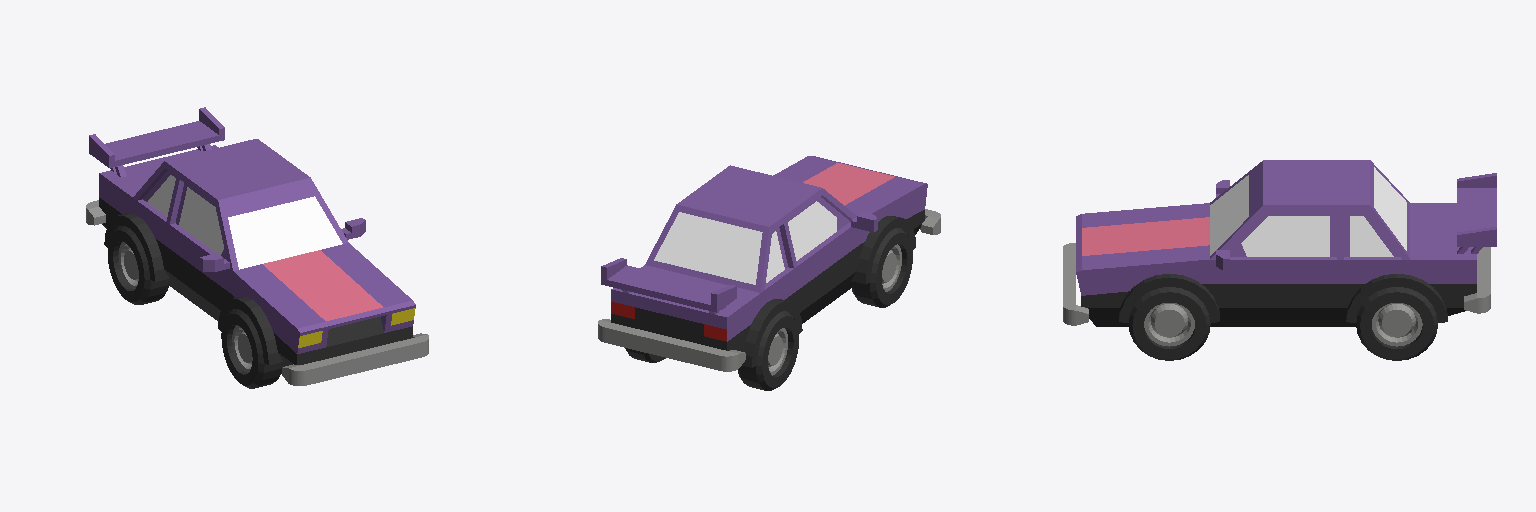
The model's file is car_sports_purple.obj.
3 views of the same model, side by side, from view 1: azimuth 30°, elevation 25°; view 2: azimuth 150°, elevation 25°; view 3: azimuth 270°, elevation 25° (orthographic).
Visible parts, largest first — view 1: mergedBlocks; view 2: mergedBlocks; view 3: mergedBlocks.
Part boxes in pixels (left/top/right/bottom): mergedBlocks: left=86, top=107, right=428, bottom=388; mergedBlocks: left=598, top=156, right=940, bottom=390; mergedBlocks: left=1063, top=160, right=1496, bottom=360.
Size of the model in its own units: 1.4 by 1.21 by 3.25.